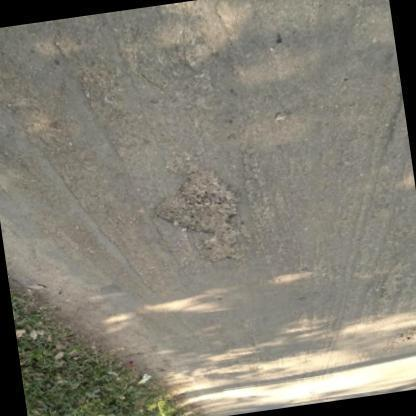pothole: (159, 166, 242, 264)
